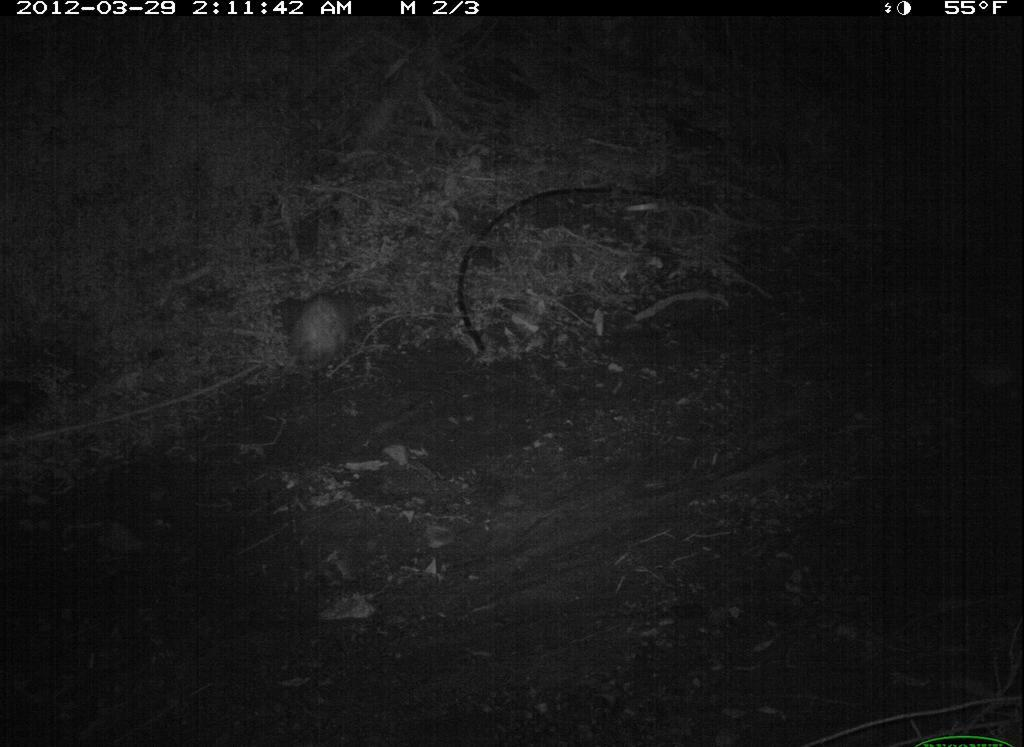opossum: (264, 276, 415, 387)
